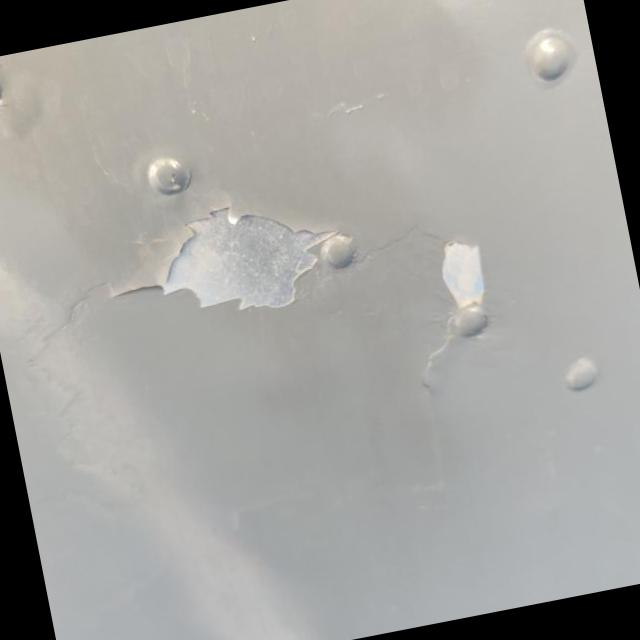Paint-off: (163, 209, 334, 310), (442, 242, 485, 309)
